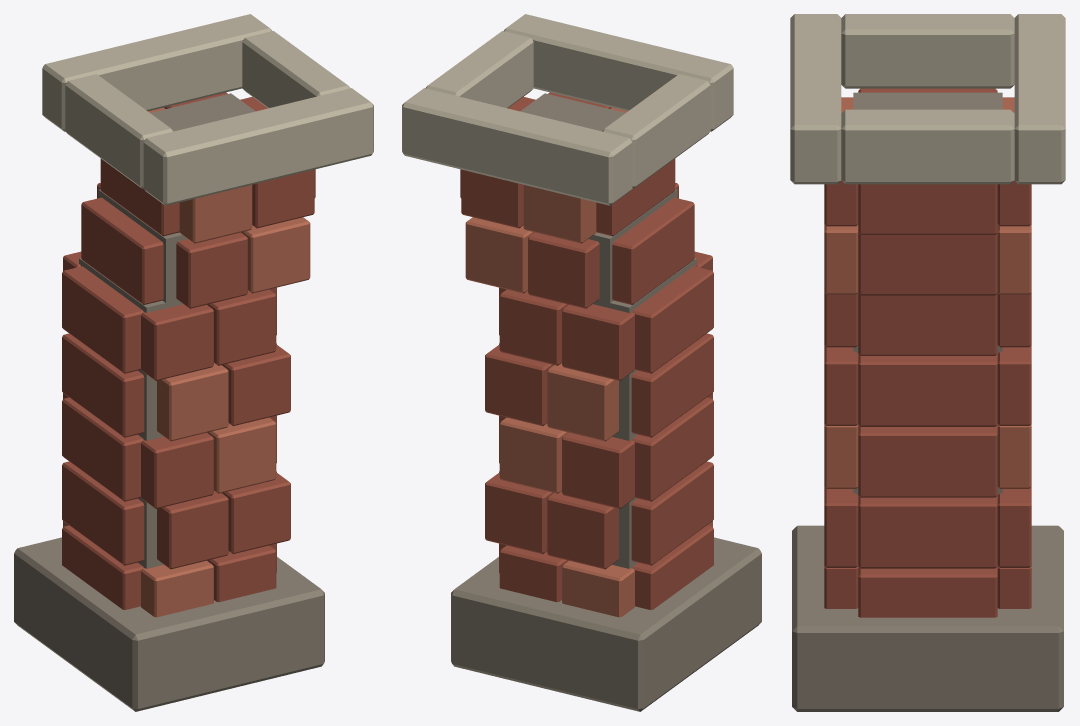
File: S020_crooked_chimney_rebuilt.glb
The picture shows the model from 3 angles, left to right: view 1: azimuth 30°, elevation 25°; view 2: azimuth 150°, elevation 25°; view 3: azimuth 270°, elevation 25°; orthographic projection. The views are drawn at different scales.
Visible parts, largest first — view 1: Brick_red_scenic_coating, Limestone_painted_foam, Mortar_warm_gray, Brick_alternate_terracotta; view 2: Brick_red_scenic_coating, Limestone_painted_foam, Mortar_warm_gray, Brick_alternate_terracotta; view 3: Brick_red_scenic_coating, Limestone_painted_foam, Mortar_warm_gray, Brick_alternate_terracotta.
Part boxes in pixels (<box>): Brick_red_scenic_coating: <box>62,92,315,609</box>; Limestone_painted_foam: <box>42,14,373,205</box>; Mortar_warm_gray: <box>14,93,324,711</box>; Brick_alternate_terracotta: <box>63,107,310,617</box>; Brick_red_scenic_coating: <box>460,92,713,609</box>; Limestone_painted_foam: <box>402,14,733,205</box>; Mortar_warm_gray: <box>451,93,761,711</box>; Brick_alternate_terracotta: <box>465,107,712,617</box>; Brick_red_scenic_coating: <box>824,88,1031,617</box>; Limestone_painted_foam: <box>790,14,1065,184</box>; Mortar_warm_gray: <box>792,92,1063,711</box>; Brick_alternate_terracotta: <box>824,97,1031,488</box>.
Size of the model in its own units: 0.95 by 2.09 by 0.85.
